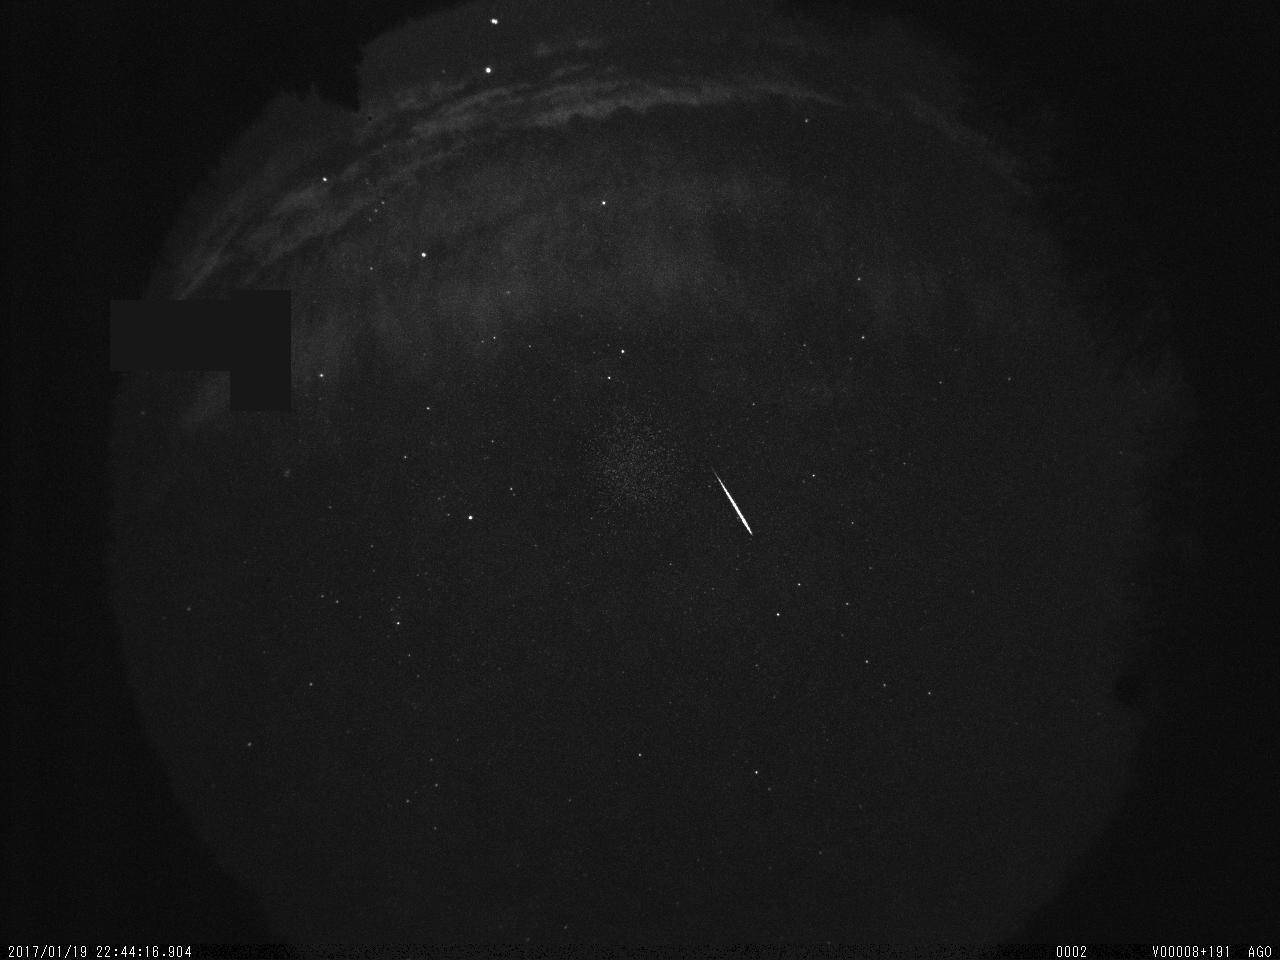meteor: (694, 453, 765, 544)
